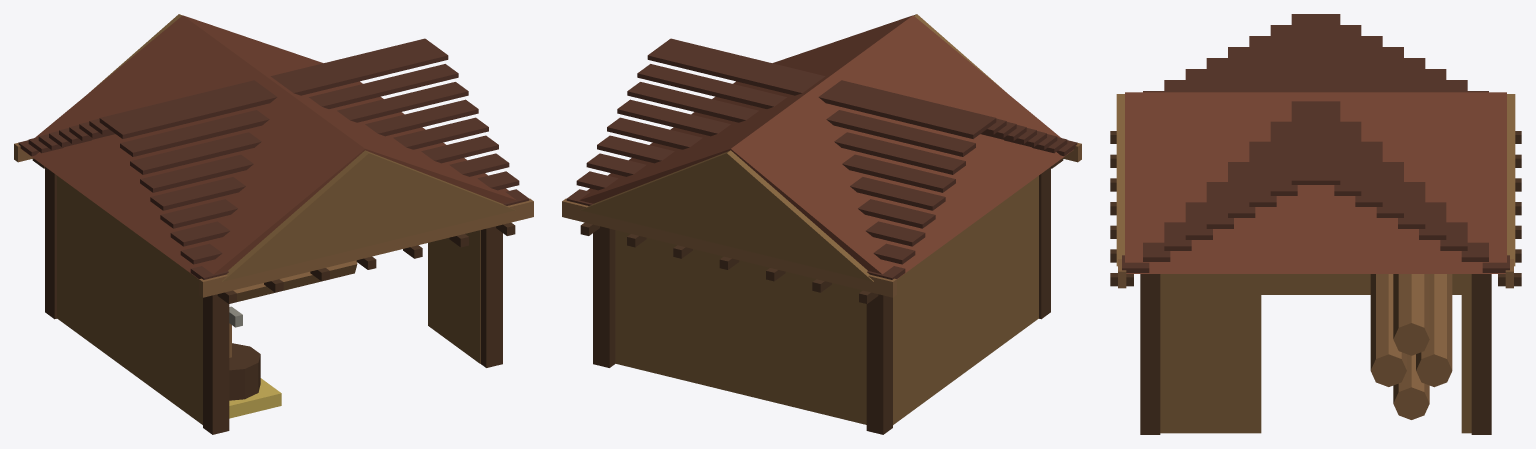
File: woodcutter.glb
The picture shows the model from 3 angles, left to right: view 1: azimuth 30°, elevation 25°; view 2: azimuth 150°, elevation 25°; view 3: azimuth 270°, elevation 25°; orthographic projection. The views are drawn at different scales.
Parts seen in each view (by area): view 1: woodcutter; view 2: woodcutter; view 3: woodcutter.
Part boxes in pixels (bbox=[...]): woodcutter: bbox=[14, 14, 533, 434]; woodcutter: bbox=[562, 14, 1081, 434]; woodcutter: bbox=[1110, 14, 1521, 434].
Size of the model in its own units: 4.4 by 3.25 by 4.52.
